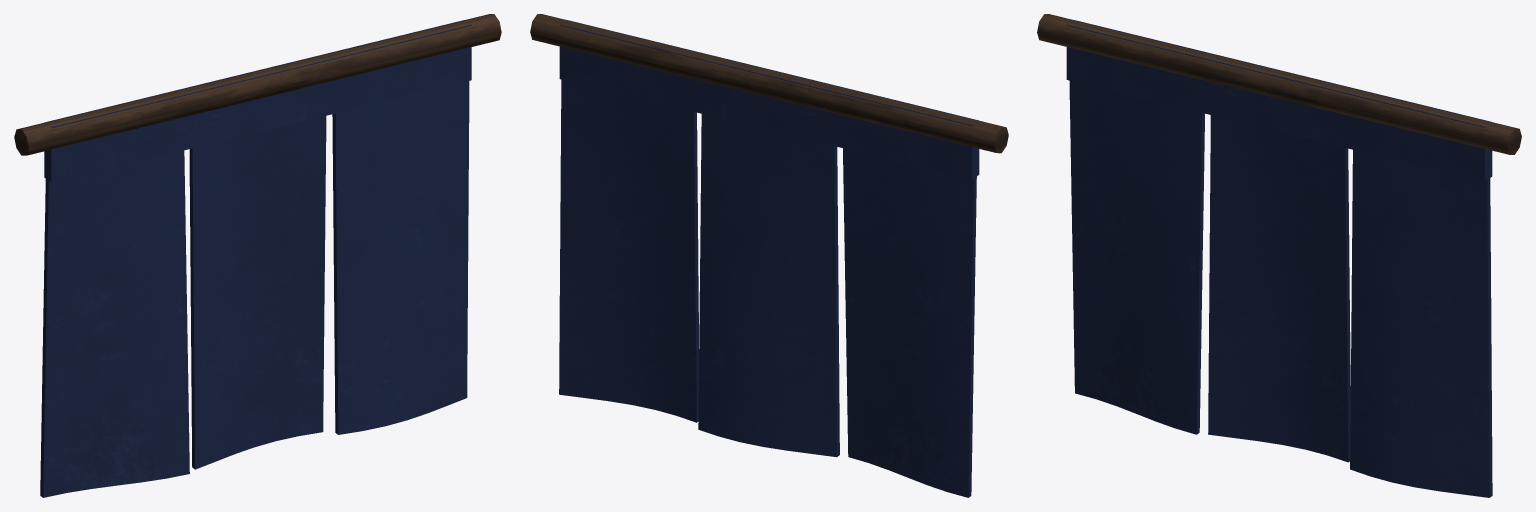
Rendered from HO_Prop_Noren_4_Navy.fbx.
3 views of the same model, side by side, from view 1: azimuth 30°, elevation 25°; view 2: azimuth 150°, elevation 25°; view 3: azimuth 330°, elevation 25° (orthographic).
Visible parts, largest first — view 1: HO_Prop_Noren_4_Navy; view 2: HO_Prop_Noren_4_Navy; view 3: HO_Prop_Noren_4_Navy.
Part boxes in pixels (x1,y1,x2,y2): HO_Prop_Noren_4_Navy: [14, 14, 501, 497]; HO_Prop_Noren_4_Navy: [530, 14, 1008, 497]; HO_Prop_Noren_4_Navy: [1037, 14, 1521, 497].
Size of the model in its own units: 4.5 by 3.44 by 0.25.
